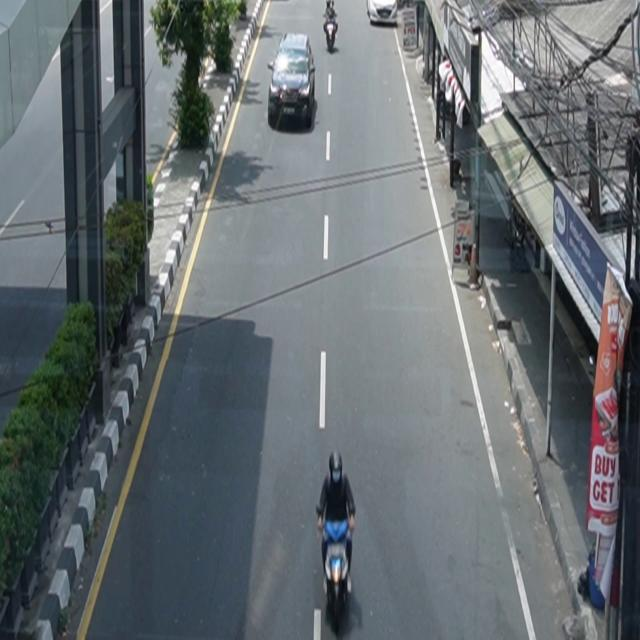car: (268, 33, 316, 129), (367, 1, 399, 26)
